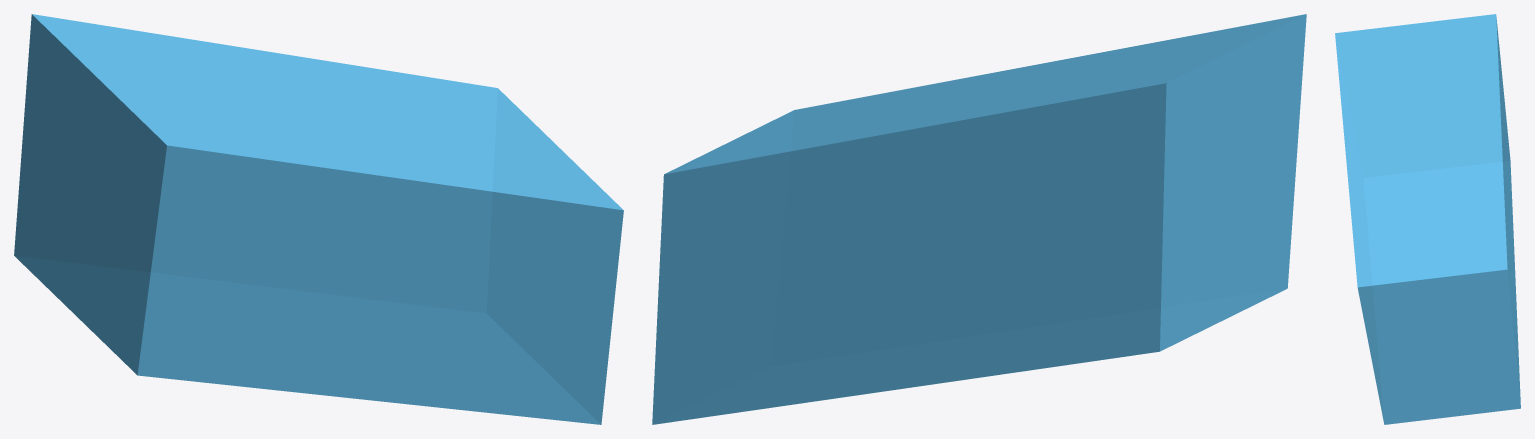
File: Event_421556567_HErechit_47.fbx
3 renders of one model, left to right at view 1: azimuth 30°, elevation 25°; view 2: azimuth 150°, elevation 25°; view 3: azimuth 270°, elevation 25°, orthographic. The views are drawn at different scales.
Visible parts, largest first — view 1: Model; view 2: Model; view 3: Model.
Boxes of the visible parts, x1,y1,x2,y2 form: Model: [14, 14, 623, 424]; Model: [652, 14, 1306, 424]; Model: [1335, 14, 1520, 424].
Size of the model in its own units: 0.8404 by 0.7644 by 0.4724.
